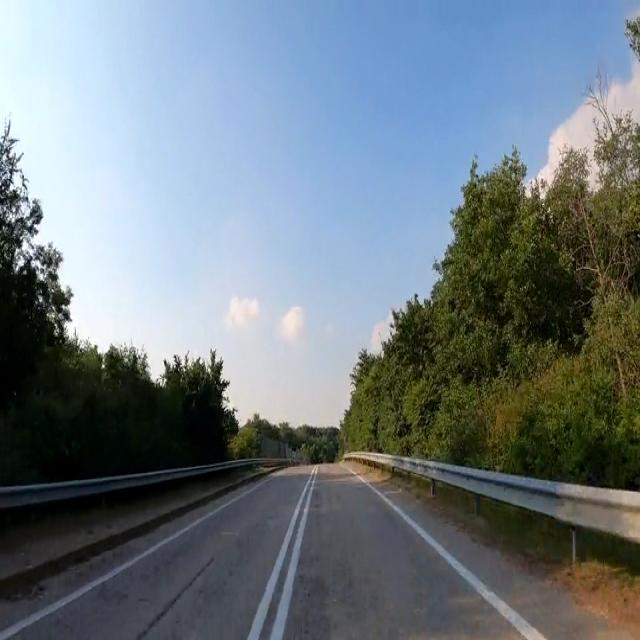lane: (0, 479, 269, 640), (350, 469, 545, 639), (247, 469, 314, 639), (270, 469, 317, 640)
road: (0, 463, 639, 638)
